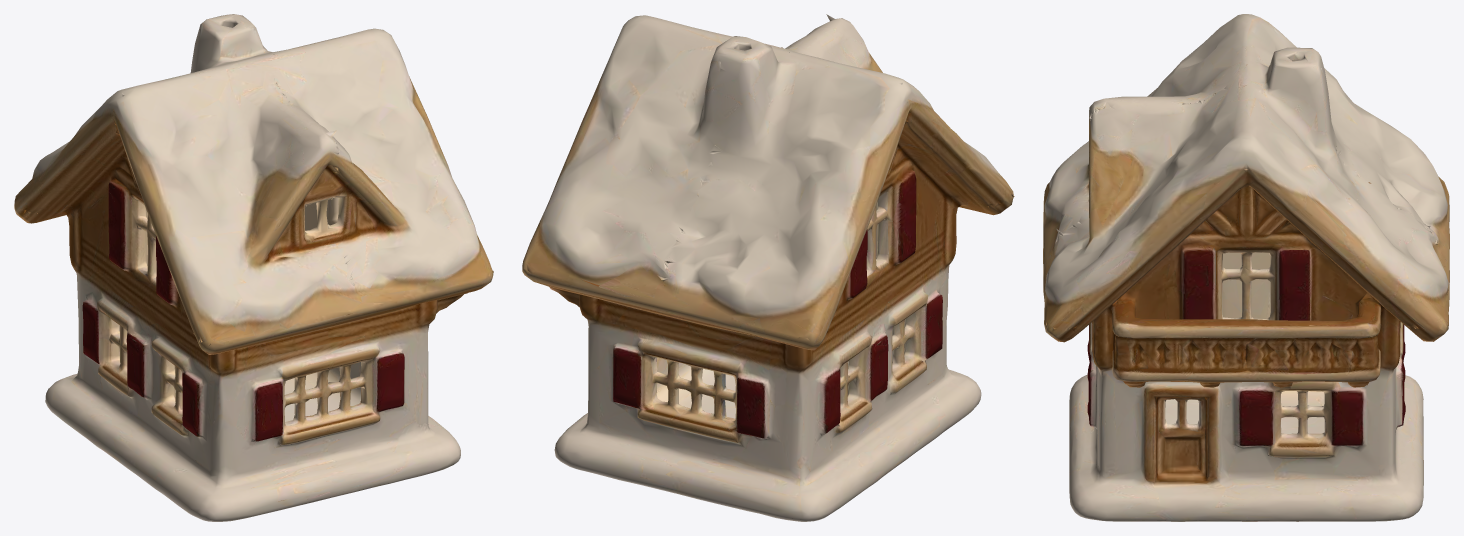
File: chalet.glb
3 views of the same model, side by side, from view 1: azimuth 30°, elevation 25°; view 2: azimuth 150°, elevation 25°; view 3: azimuth 270°, elevation 25° (orthographic). The views are drawn at different scales.
Bounding box in the file's own units: 1.64 × 2 × 1.83.
Materials: 1 (1 with a texture image).
